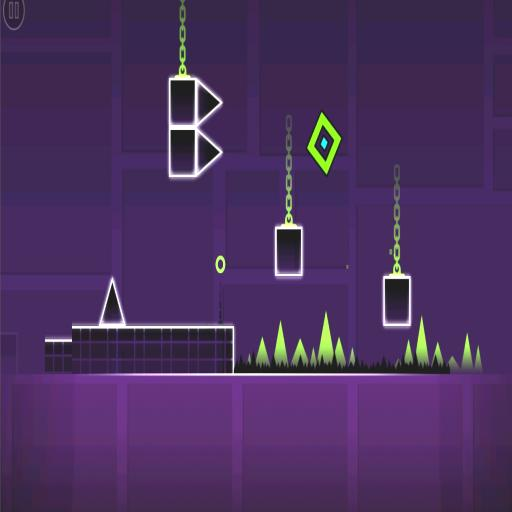block: (70, 323, 237, 378), (164, 74, 197, 183), (268, 222, 306, 283), (378, 270, 416, 330), (42, 335, 73, 377), (0, 332, 20, 376)
player: (308, 113, 342, 175)
spike: (101, 279, 124, 324), (197, 131, 221, 173), (198, 82, 221, 123), (318, 312, 334, 362), (416, 317, 430, 365), (274, 322, 288, 365), (461, 334, 474, 371), (291, 339, 309, 365), (256, 337, 270, 366), (335, 338, 346, 367), (405, 340, 413, 363), (475, 346, 482, 372), (448, 357, 460, 372), (435, 343, 443, 365), (311, 349, 316, 367), (350, 349, 355, 365), (396, 359, 401, 367), (248, 354, 251, 363)
